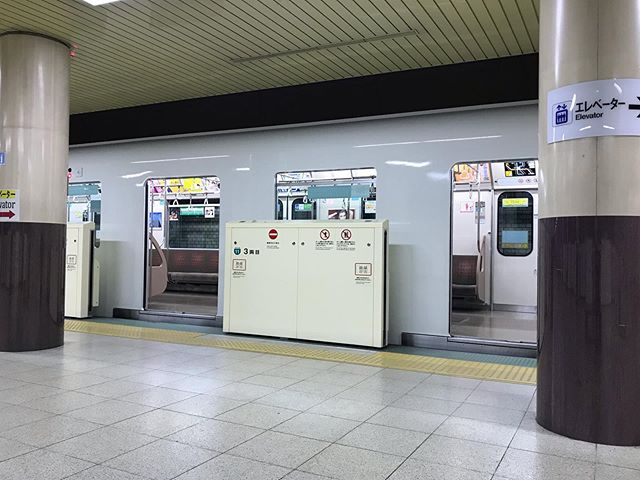collumn: (532, 1, 640, 460), (1, 22, 72, 359)
train: (67, 116, 551, 352)
